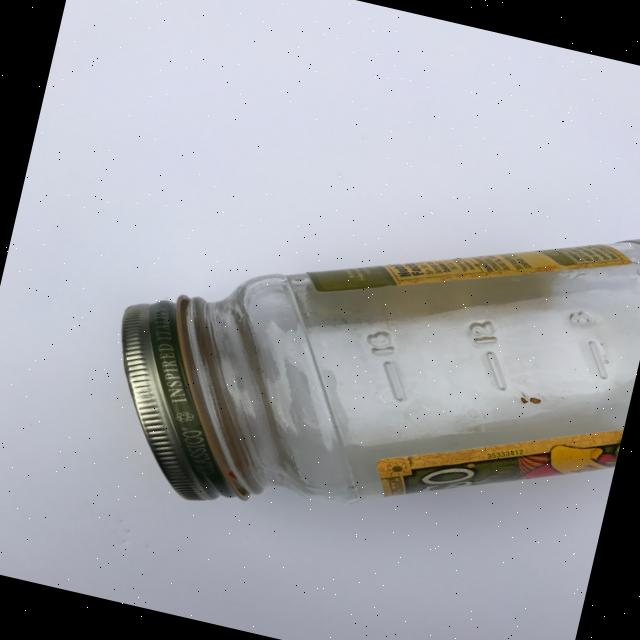glass: (84, 122, 640, 592)
